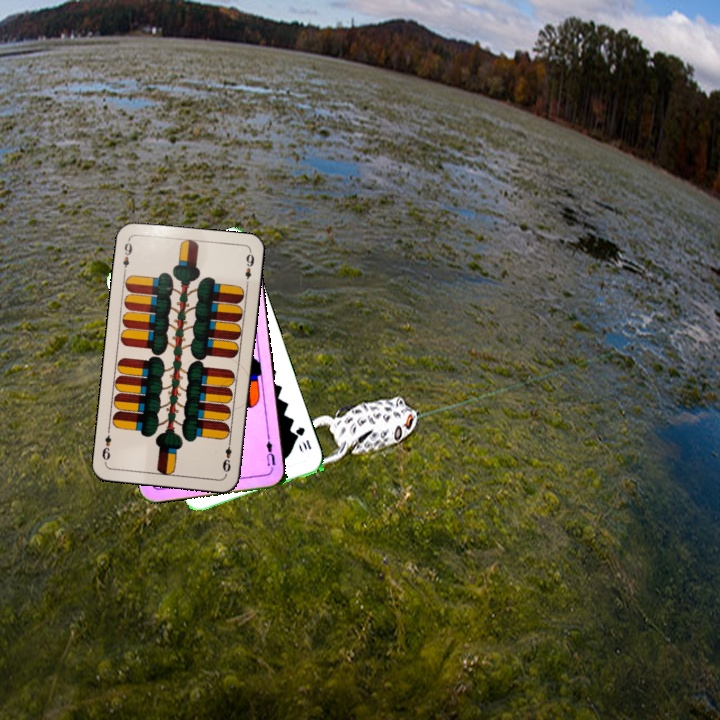E9: (218, 436, 234, 476), (119, 236, 135, 276)
EU: (262, 431, 278, 468)
G10: (292, 423, 314, 453)
